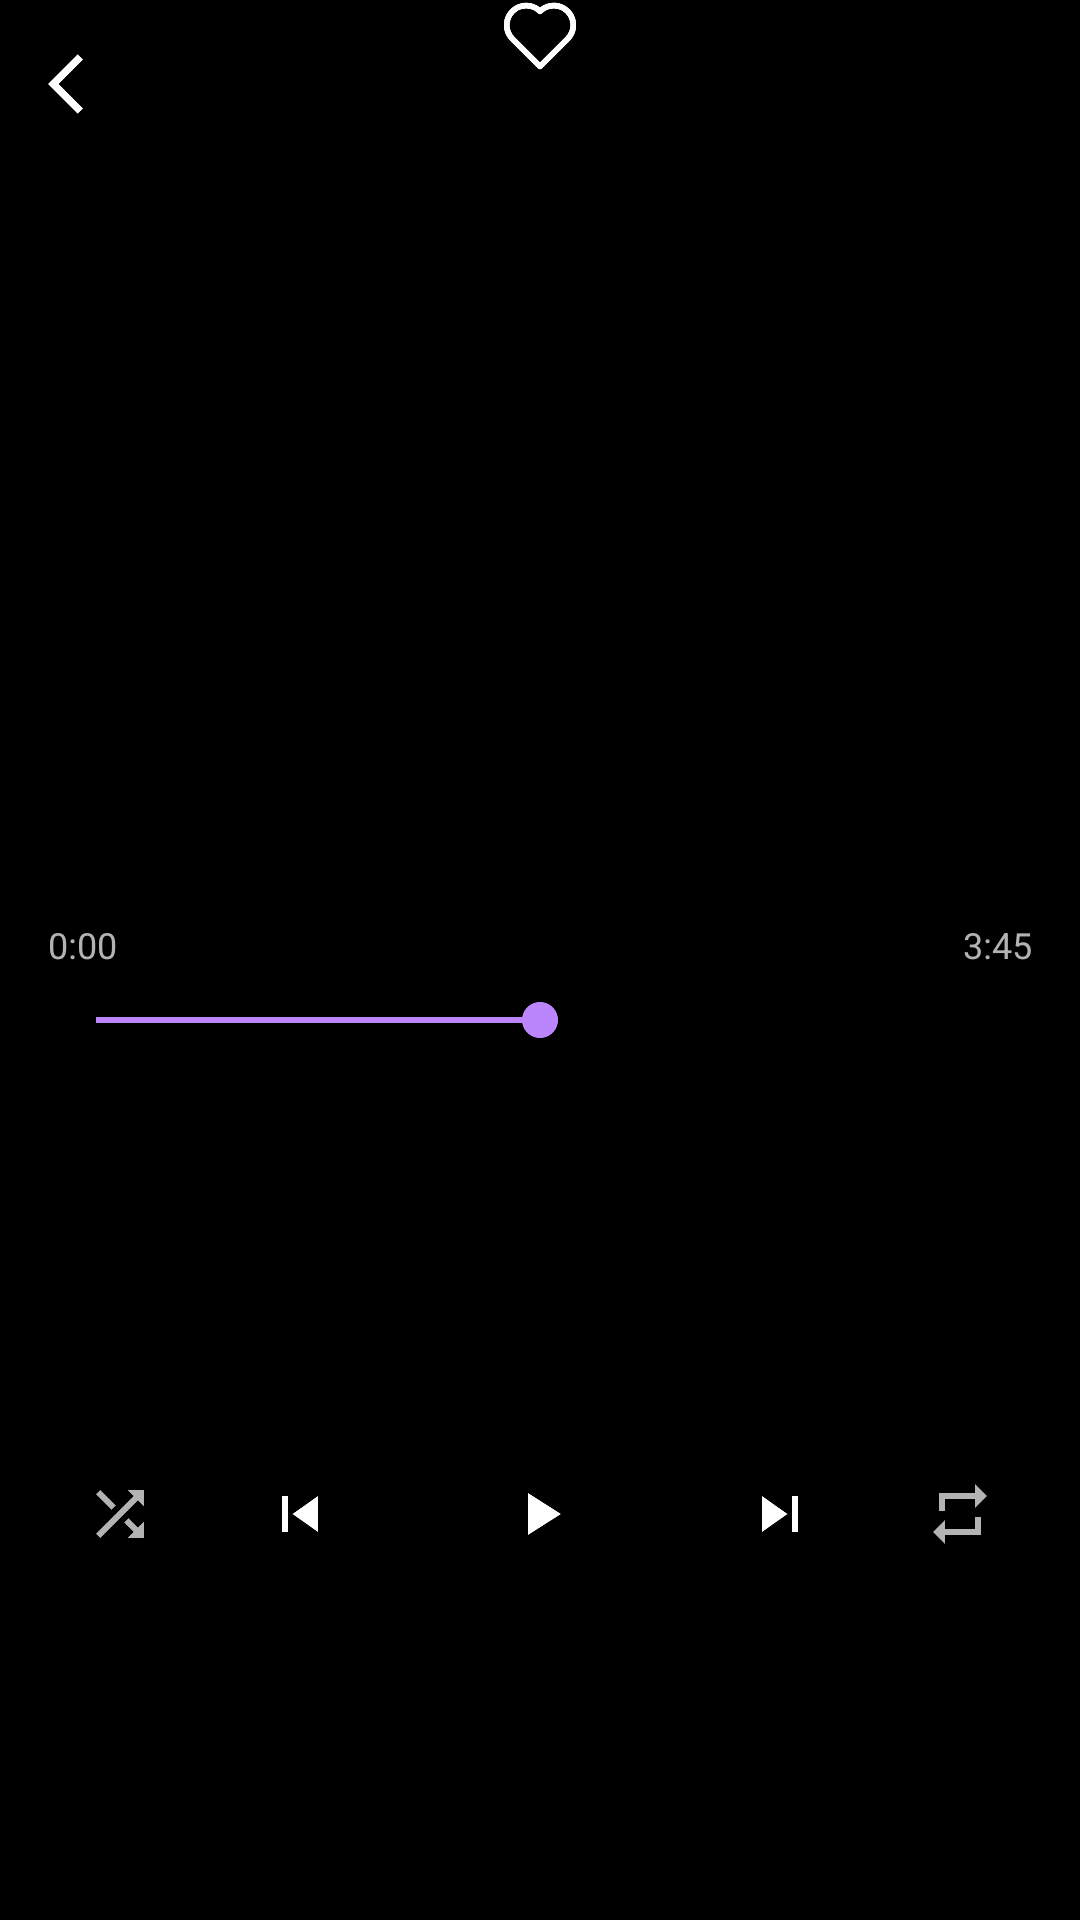

Where icons sit on this 1080x1920 app screen, as bbox(x1, y1, x2, y2):
back: bbox(48, 54, 83, 114)
like: bbox(504, 2, 576, 70)
play: bbox(528, 1493, 561, 1535)
repeat: bbox(933, 1484, 987, 1544)
shuffle: bbox(96, 1490, 144, 1538)
skip next: bbox(762, 1496, 798, 1532)
skip previous: bbox(282, 1496, 318, 1532)
